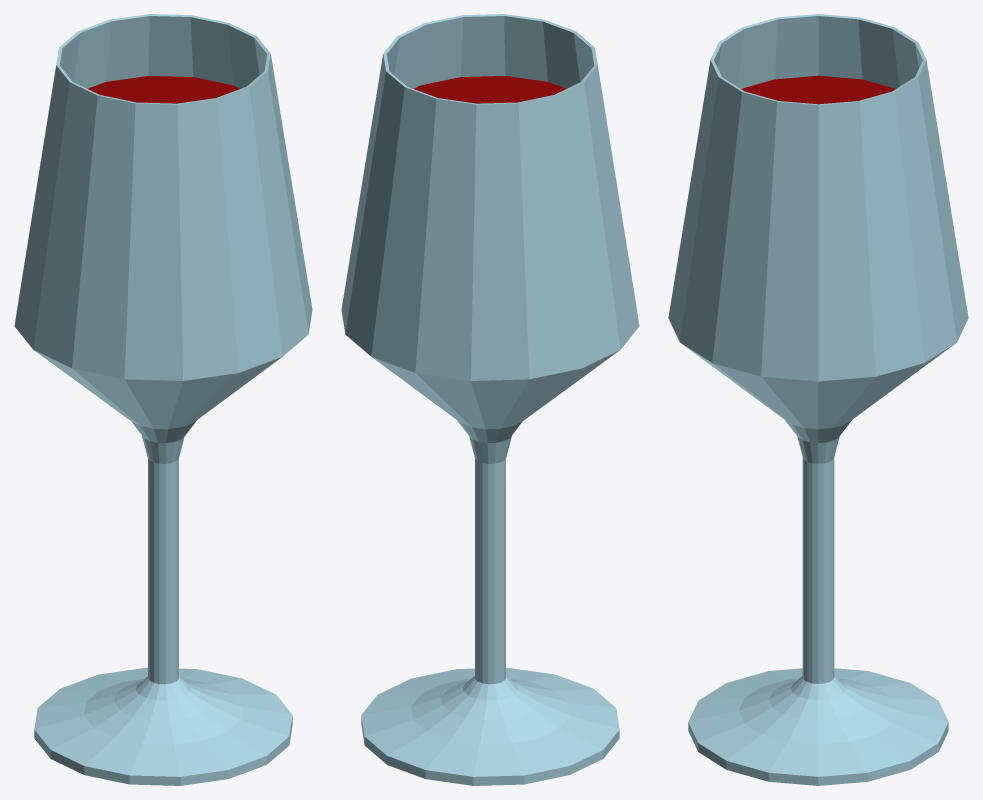
File: Copa02_Vino.fbx
3 renders of one model, left to right at view 1: azimuth 30°, elevation 25°; view 2: azimuth 150°, elevation 25°; view 3: azimuth 270°, elevation 25°, orthographic.
Parts seen in each view (by area): view 1: Copa02_Vino; view 2: Copa02_Vino; view 3: Copa02_Vino.
Part boxes in pixels (left/top/right/bottom): Copa02_Vino: left=14, top=14, right=312, bottom=785; Copa02_Vino: left=341, top=14, right=639, bottom=785; Copa02_Vino: left=668, top=14, right=968, bottom=785.
Bounding box in the file's own units: 8.41 × 20.75 × 8.41.
